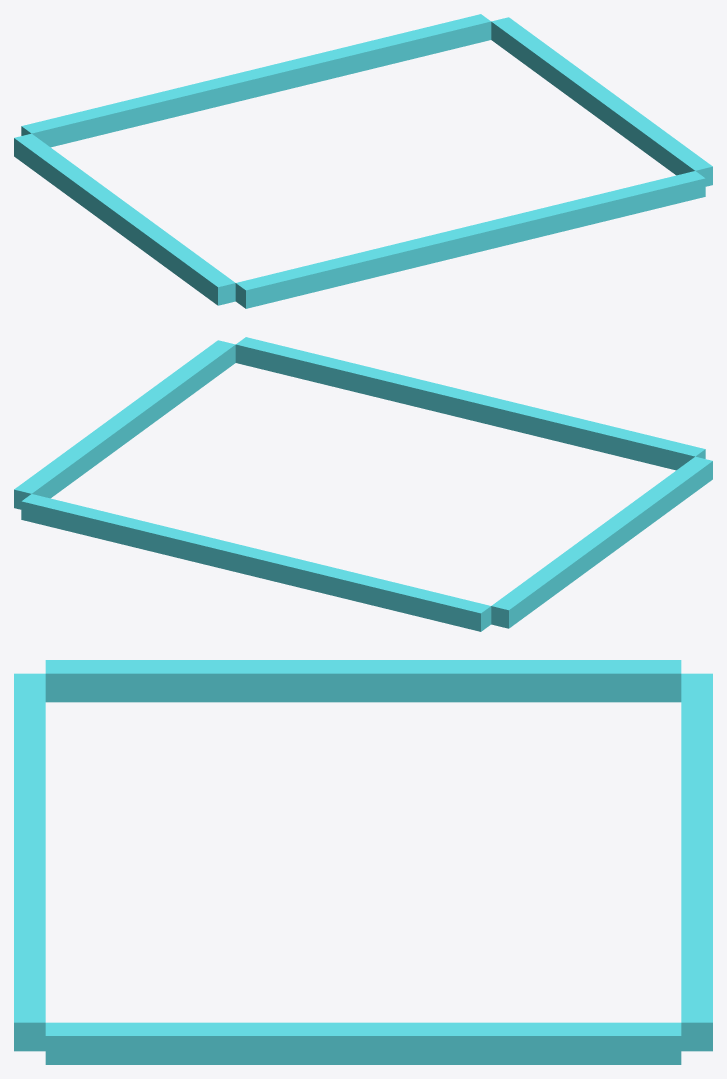
The model's file is ShipCage.obj.
3 renders of one model, top to bottom at view 1: azimuth 30°, elevation 25°; view 2: azimuth 150°, elevation 25°; view 3: azimuth 270°, elevation 25°, orthographic. The views are drawn at different scales.
Bounding box in the file's own units: 28 × 1 × 22.
